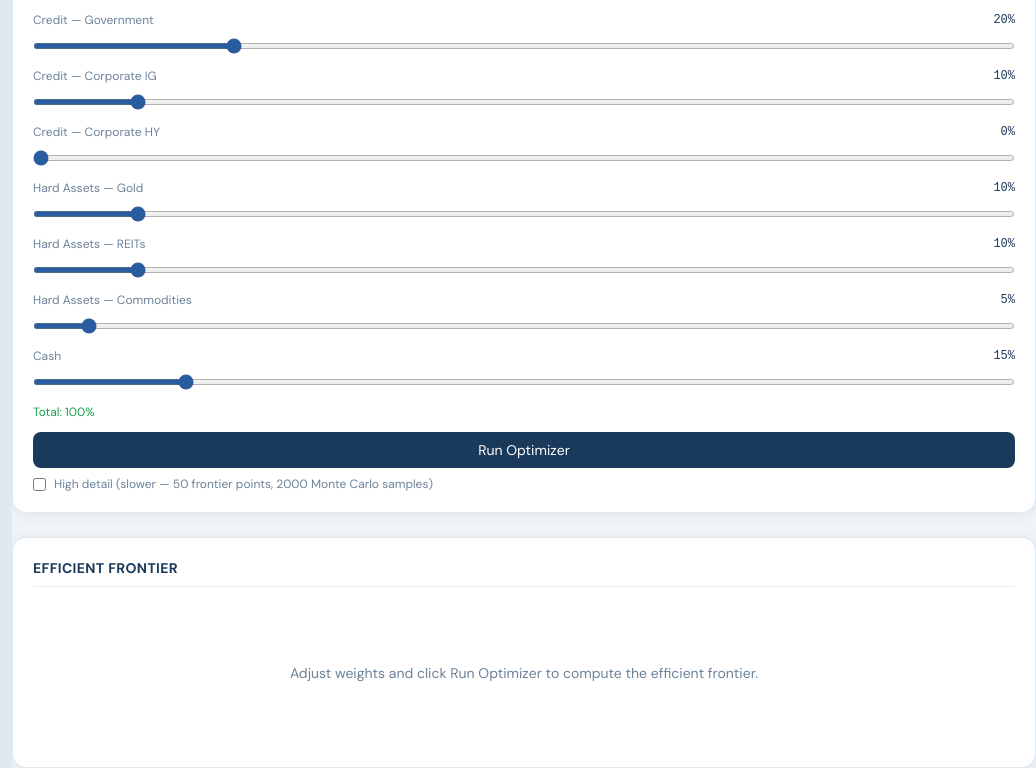
Test case: PortfolioPage › applies optimized weights to sliders from comparison panel
(page scrolled)
Expected: the heading "Efficient Frontier" is shown, left=33, top=558, right=1015, bottom=587
Click the button "Run Optimizer". click: (524,450)
box: left=33, top=432, right=1015, bottom=468
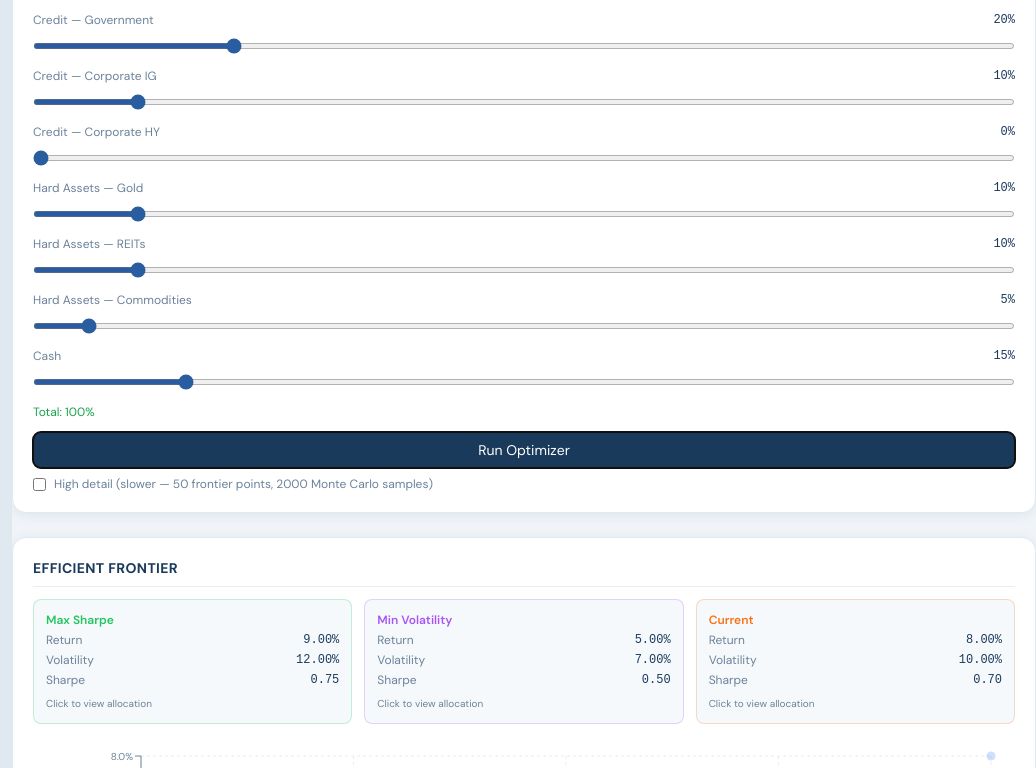
Click the button "Max Sharpe". click: (80,620)
box: left=33, top=599, right=352, bottom=724
(page scrolled)
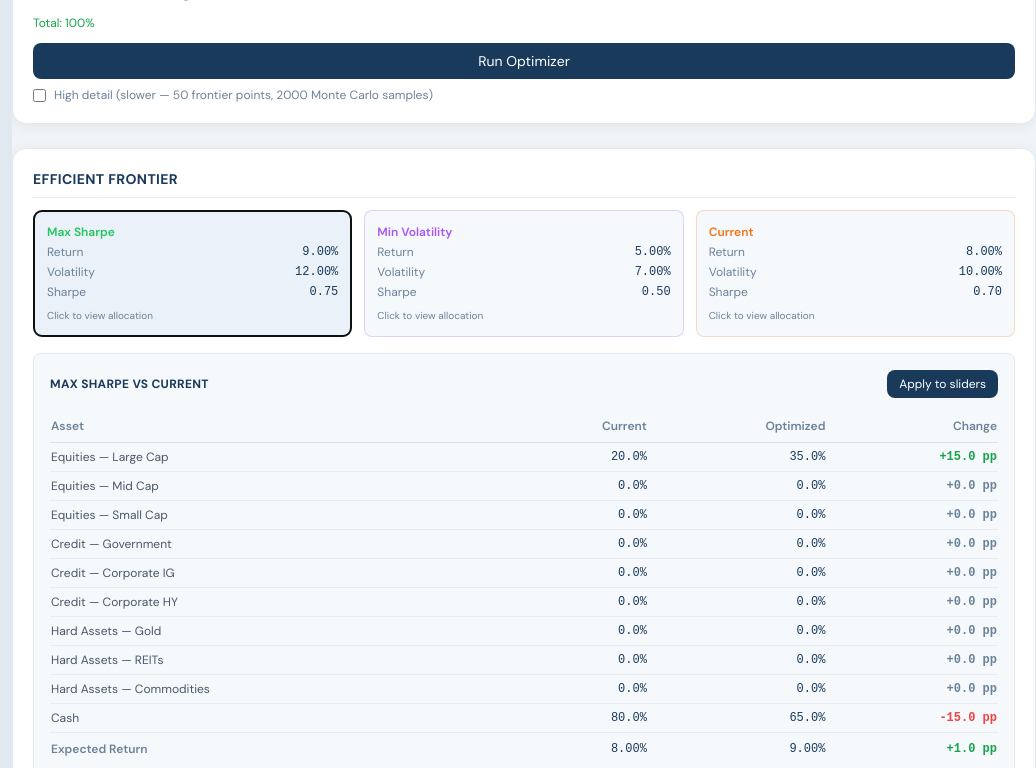
Click the button "Apply to sliders". click: (943,384)
box: left=887, top=370, right=998, bottom=398
(page scrolled)
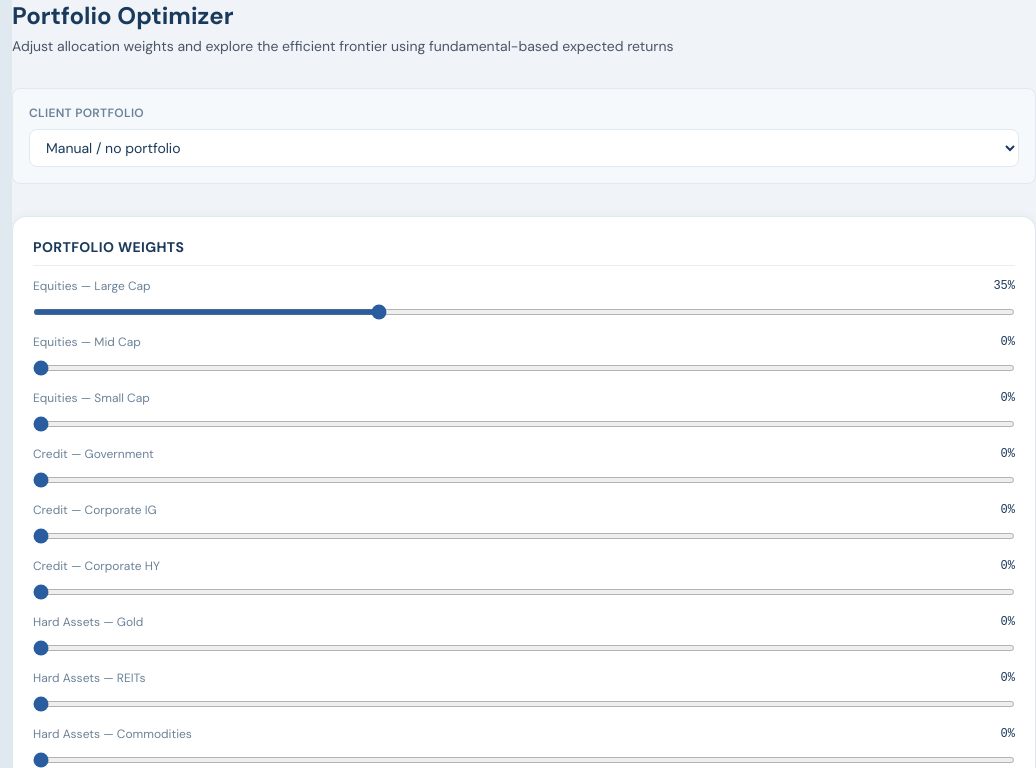
Expected: the text "35%" is shown, left=993, top=278, right=1015, bottom=294
